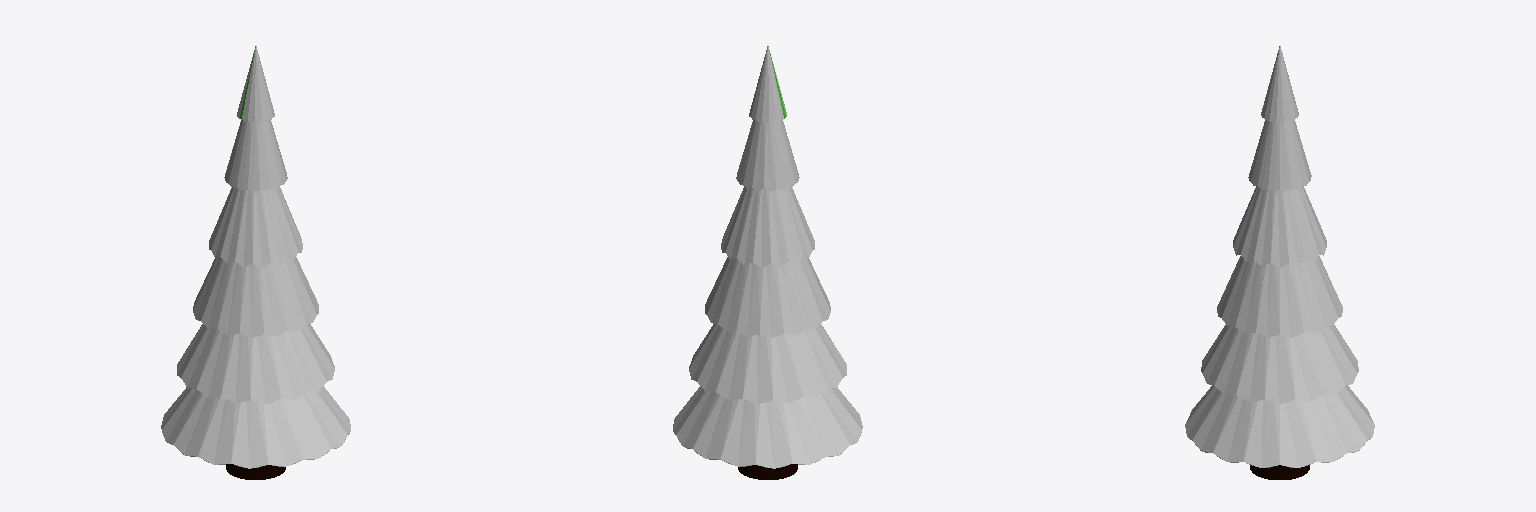
Rendered from lowPolyTree1Snow.obj.
The picture shows the model from 3 angles: view 1: azimuth 30°, elevation 25°; view 2: azimuth 150°, elevation 25°; view 3: azimuth 270°, elevation 25°; orthographic projection.
Visible parts, largest first — view 1: Cylinder; view 2: Cylinder; view 3: Cylinder.
Part boxes in pixels (x1,y1,x2,y2): Cylinder: (161, 46, 350, 479); Cylinder: (673, 46, 862, 479); Cylinder: (1185, 46, 1374, 479).
Bounding box in the file's own units: 5.4 × 13.25 × 5.39.